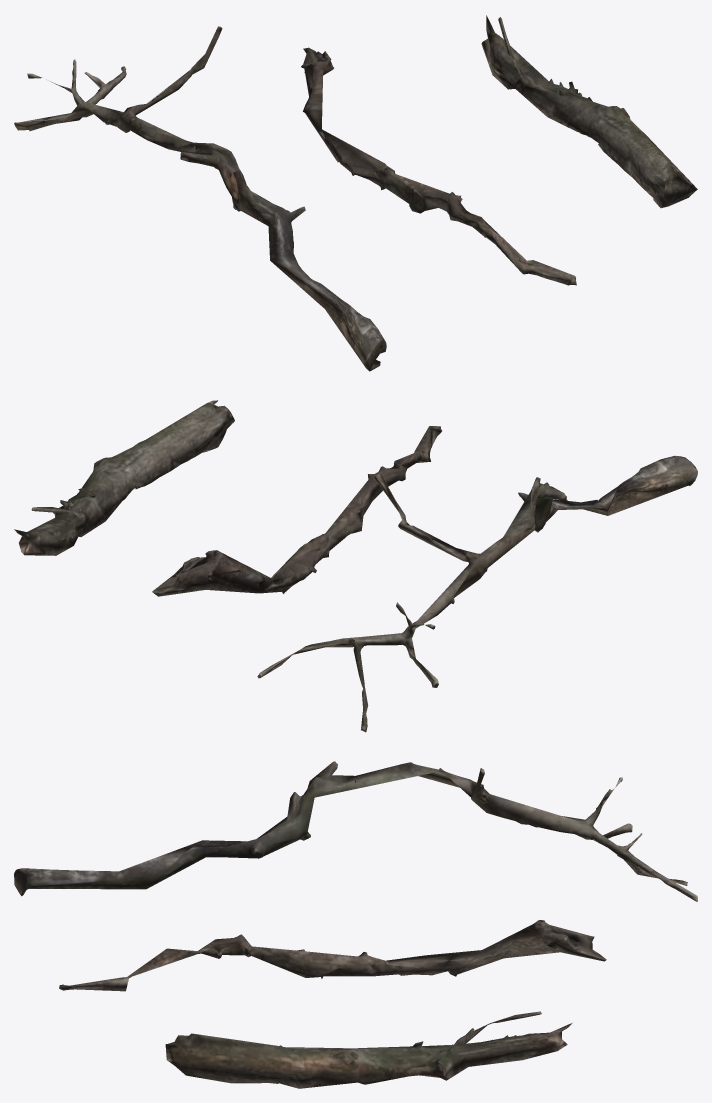
Rendered from branches_lo.glb.
3 renders of one model, top to bottom at view 1: azimuth 30°, elevation 25°; view 2: azimuth 150°, elevation 25°; view 3: azimuth 270°, elevation 25°, orthographic. The views are drawn at different scales.
Visible parts, largest first — view 1: dry_branches_medium_01_a, dry_branches_medium_01_c, dry_branches_medium_01_b; view 2: dry_branches_medium_01_a, dry_branches_medium_01_c, dry_branches_medium_01_b; view 3: dry_branches_medium_01_c, dry_branches_medium_01_a, dry_branches_medium_01_b.
Boxes of the visible parts, x1,y1,x2,y2 form: dry_branches_medium_01_a: [14, 26, 386, 371]; dry_branches_medium_01_c: [481, 15, 697, 208]; dry_branches_medium_01_b: [301, 47, 576, 285]; dry_branches_medium_01_a: [257, 455, 697, 732]; dry_branches_medium_01_c: [14, 400, 234, 555]; dry_branches_medium_01_b: [152, 426, 441, 596]; dry_branches_medium_01_c: [165, 1011, 572, 1088]; dry_branches_medium_01_a: [14, 761, 697, 901]; dry_branches_medium_01_b: [59, 920, 606, 991].
Bounding box in the file's own units: 1.05 × 0.34 × 1.3.
Materials: 1 (1 with a texture image).
